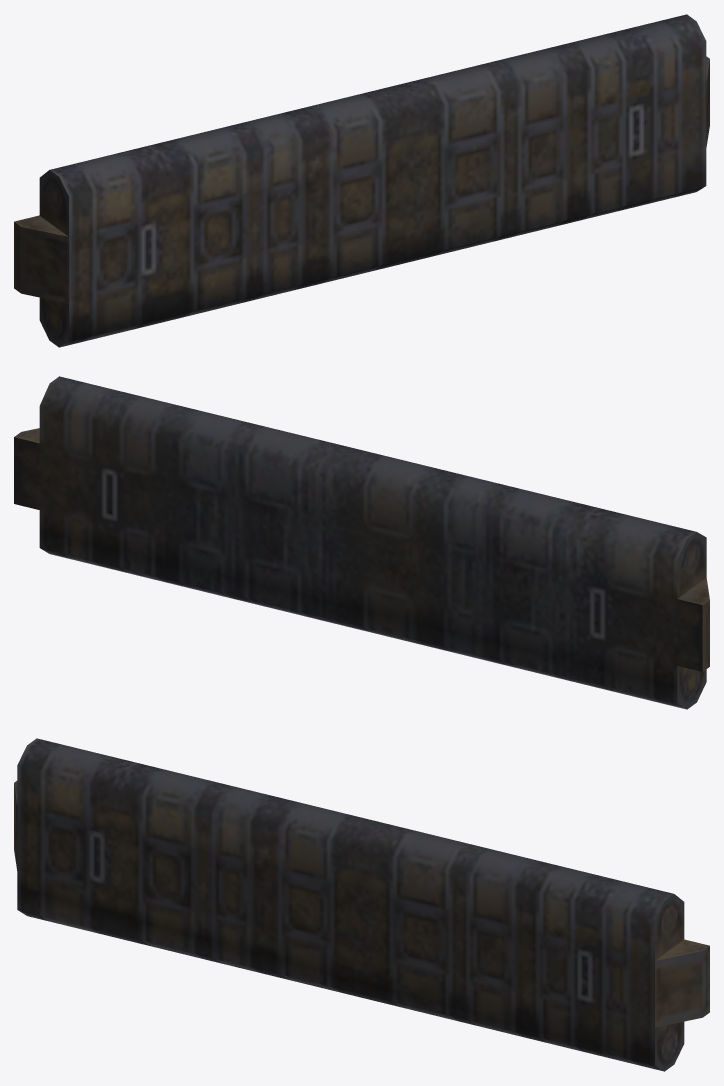
3 renders of one model, top to bottom at view 1: azimuth 30°, elevation 25°; view 2: azimuth 150°, elevation 25°; view 3: azimuth 330°, elevation 25°, orthographic.
Visible parts, largest first — view 1: set_0_group_0; view 2: set_0_group_0; view 3: set_0_group_0.
Part boxes in pixels (<box>): set_0_group_0: <box>14,14,709,347</box>; set_0_group_0: <box>14,376,709,709</box>; set_0_group_0: <box>14,738,709,1071</box>.
Bounding box in the file's own units: 0.9001 × 0.213 × 0.0665.
Materials: 1 (1 with a texture image).
